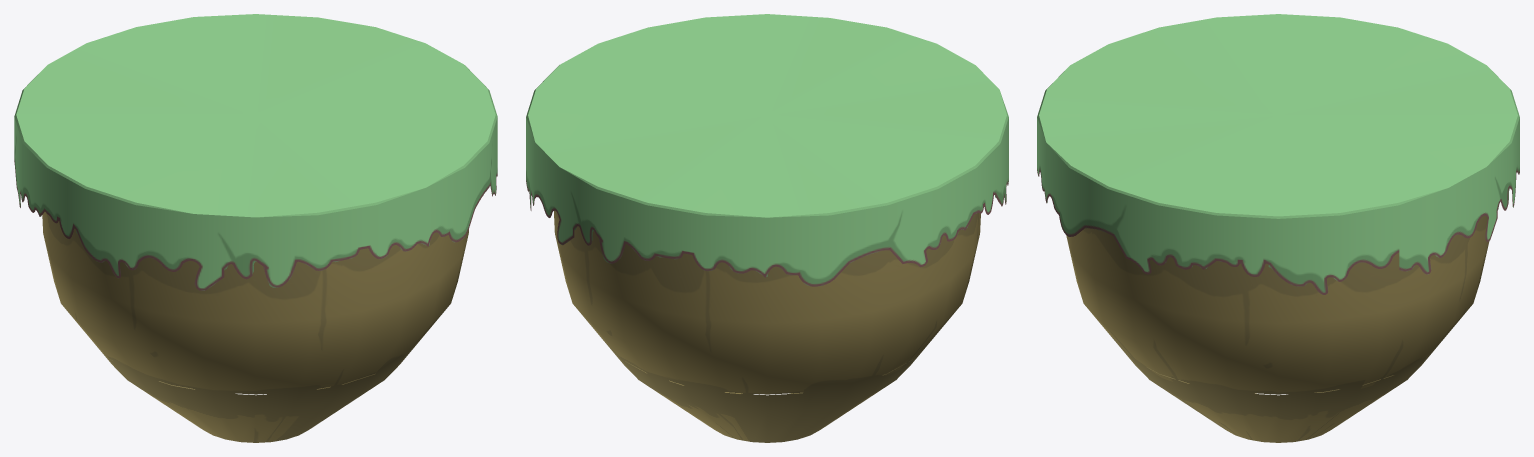
Rendered from Mesh_Adventure_FloatingRock_SM.fbx.
3 renders of one model, left to right at view 1: azimuth 30°, elevation 25°; view 2: azimuth 150°, elevation 25°; view 3: azimuth 270°, elevation 25°, orthographic.
Parts seen in each view (by area): view 1: Mesh_Adventure_FloatingRock; view 2: Mesh_Adventure_FloatingRock; view 3: Mesh_Adventure_FloatingRock.
Boxes of the visible parts, bbox=[...] form: Mesh_Adventure_FloatingRock: bbox=[14, 14, 497, 442]; Mesh_Adventure_FloatingRock: bbox=[526, 14, 1008, 442]; Mesh_Adventure_FloatingRock: bbox=[1037, 14, 1519, 442].
Bounding box in the file's own units: 150 × 104 × 150.
